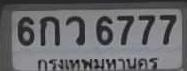6: (95, 15, 112, 44), (17, 16, 33, 45)
7: (116, 14, 133, 44), (138, 14, 154, 44), (159, 14, 175, 44)
A01: (39, 15, 59, 45)
A37: (65, 15, 84, 45)
BKK: (33, 55, 161, 71)
